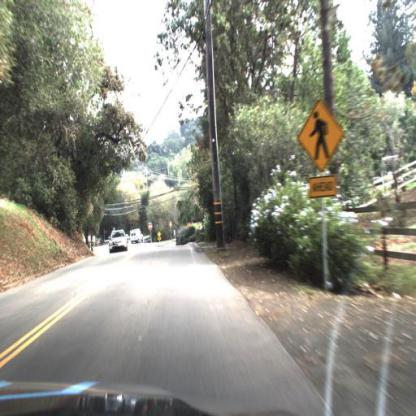car: (107, 227, 130, 255), (108, 225, 130, 253), (129, 225, 146, 248)
